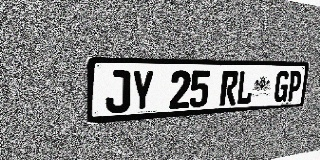2: (169, 70, 191, 109)
5: (189, 70, 210, 108)
G: (273, 71, 290, 102)
J: (106, 70, 131, 114)
L: (236, 71, 255, 105)
P: (286, 71, 303, 101)
R: (219, 71, 239, 106)
Y: (131, 70, 154, 112)
